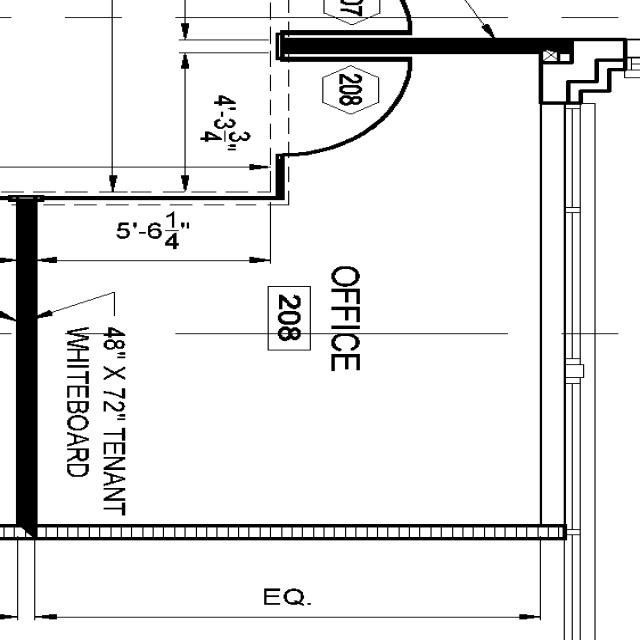Doors: (270, 56, 421, 162), (0, 0, 132, 30)
